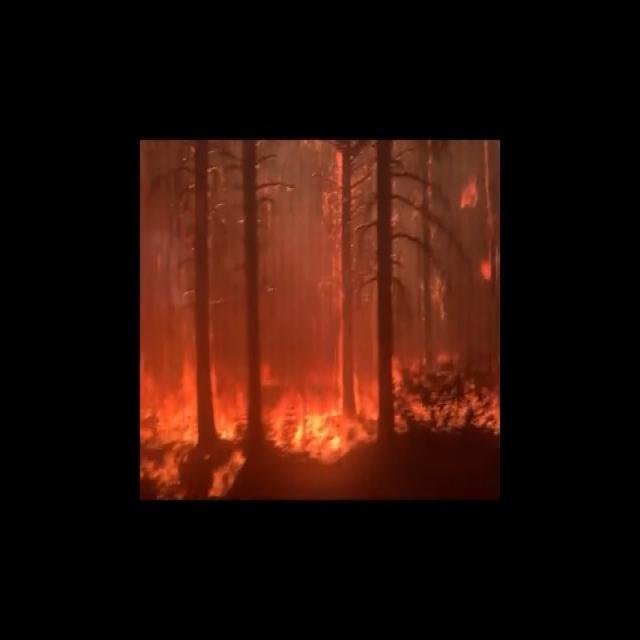Fire: (142, 330, 382, 503)
